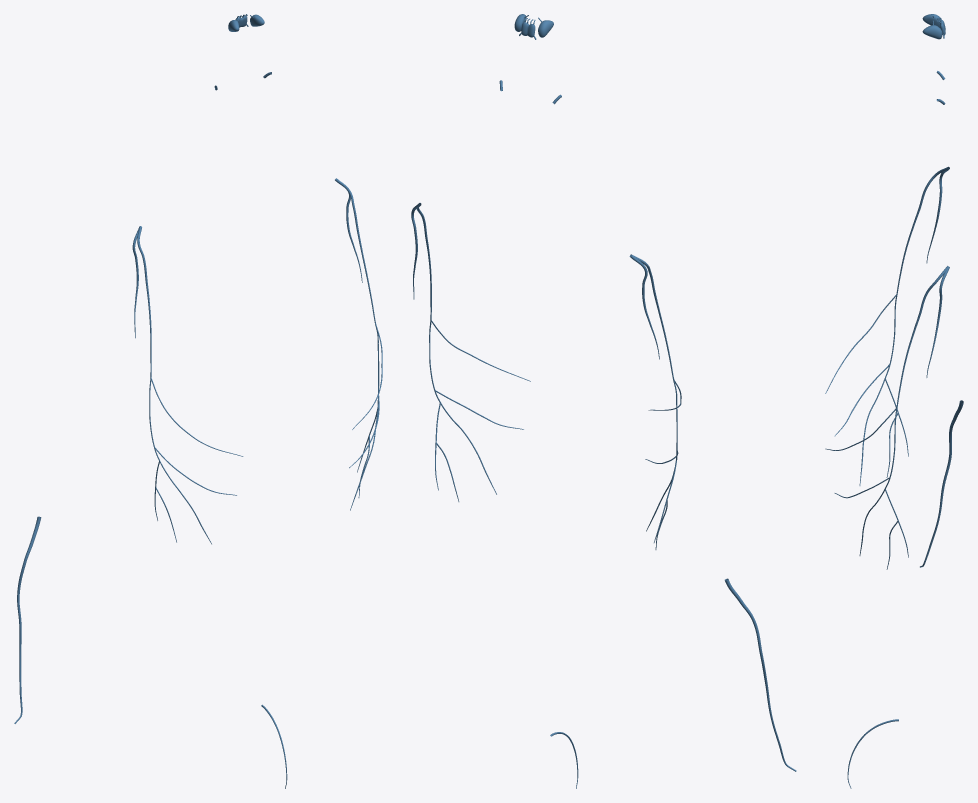
Rendered from detail-circulatory-whole-body.glb.
The picture shows the model from 3 angles, left to right: view 1: azimuth 30°, elevation 25°; view 2: azimuth 150°, elevation 25°; view 3: azimuth 270°, elevation 25°; orthographic projection. The views are drawn at different scales.
Parts seen in each view (by area): view 1: za-aab00bb96282e1a8, za-6a8274effb95aa49, za-779fb7a3f3752b1e; view 2: za-6a8274effb95aa49, za-aab00bb96282e1a8, za-779fb7a3f3752b1e; view 3: za-aab00bb96282e1a8, za-6a8274effb95aa49, za-779fb7a3f3752b1e, za-51247c3585518a38.
Part boxes in pixels (x1=…): za-aab00bb96282e1a8: x1=137, y1=226, x2=243, y2=544; za-6a8274effb95aa49: x1=335, y1=178, x2=382, y2=510; za-779fb7a3f3752b1e: x1=14, y1=516, x2=41, y2=723; za-6a8274effb95aa49: x1=416, y1=207, x2=530, y2=501; za-aab00bb96282e1a8: x1=629, y1=254, x2=681, y2=549; za-779fb7a3f3752b1e: x1=724, y1=578, x2=796, y2=771; za-aab00bb96282e1a8: x1=825, y1=166, x2=949, y2=485; za-6a8274effb95aa49: x1=825, y1=266, x2=948, y2=569; za-779fb7a3f3752b1e: x1=920, y1=400, x2=963, y2=567; za-51247c3585518a38: x1=926, y1=266, x2=949, y2=377.
Bounding box in the file's own units: 0.4209 × 0.8491 × 0.1384.
